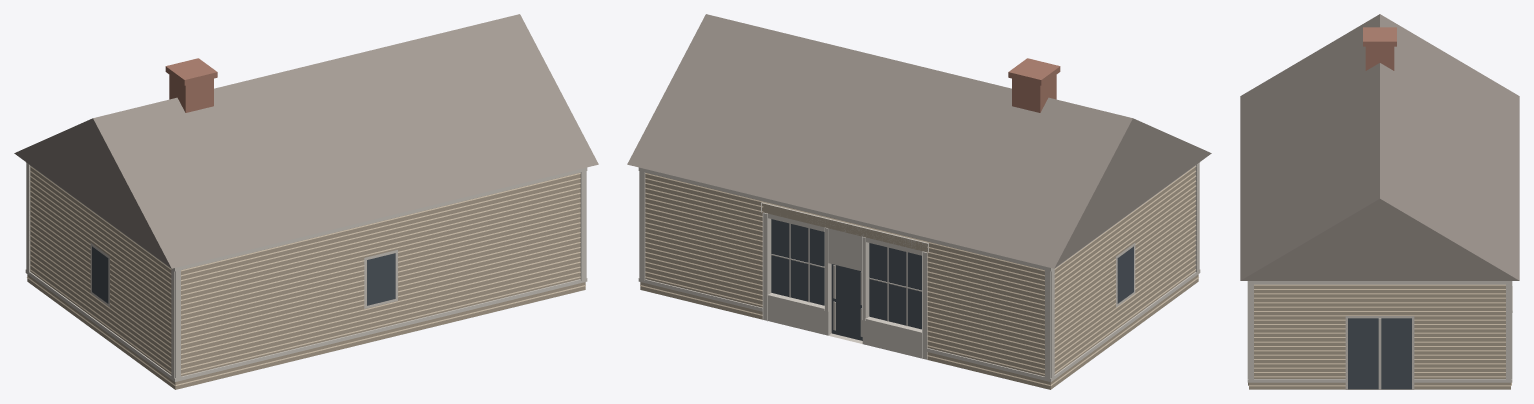
File: jh_kinzie_forwarding_store__frame_1830s.glb
The picture shows the model from 3 angles, left to right: view 1: azimuth 30°, elevation 25°; view 2: azimuth 150°, elevation 25°; view 3: azimuth 270°, elevation 25°; orthographic projection. The views are drawn at different scales.
Visible parts, largest first — view 1: jh_kinzie_forwarding_store__frame_1830s; view 2: jh_kinzie_forwarding_store__frame_1830s; view 3: jh_kinzie_forwarding_store__frame_1830s.
Boxes of the visible parts, x1,y1,x2,y2 form: jh_kinzie_forwarding_store__frame_1830s: (14,14,598,389); jh_kinzie_forwarding_store__frame_1830s: (627,14,1211,389); jh_kinzie_forwarding_store__frame_1830s: (1240,14,1519,389).
Bounding box in the file's own units: 12.69 × 6.95 × 8.12.
